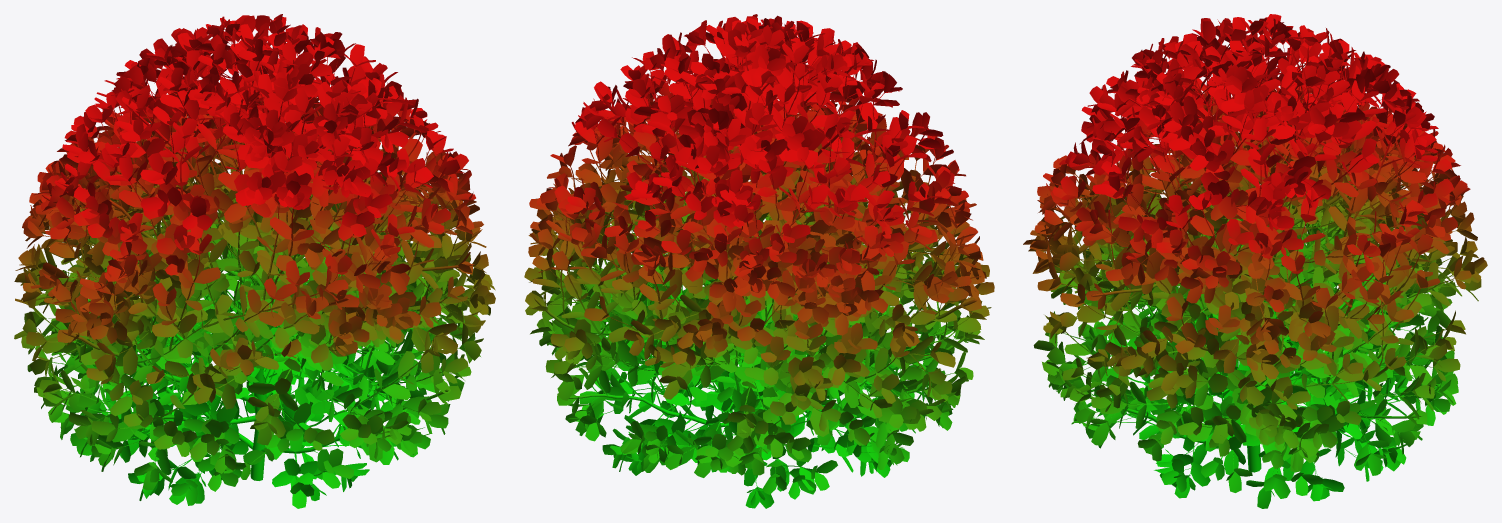
Rendered from Var8_LOD2.fbx.
3 renders of one model, left to right at view 1: azimuth 30°, elevation 25°; view 2: azimuth 150°, elevation 25°; view 3: azimuth 270°, elevation 25°, orthographic. The views are drawn at different scales.
Visible parts, largest first — view 1: _grzw_Var8_LOD2; view 2: _grzw_Var8_LOD2; view 3: _grzw_Var8_LOD2.
Boxes of the visible parts, bbox=[...] form: _grzw_Var8_LOD2: bbox=[14, 14, 495, 508]; _grzw_Var8_LOD2: bbox=[524, 14, 994, 508]; _grzw_Var8_LOD2: bbox=[1023, 14, 1487, 508].
Size of the model in its own units: 48.62 by 49.36 by 47.09.
